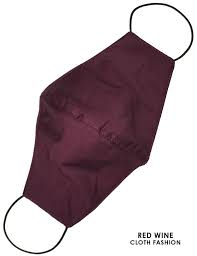cloth_mask: (1, 1, 196, 256)
